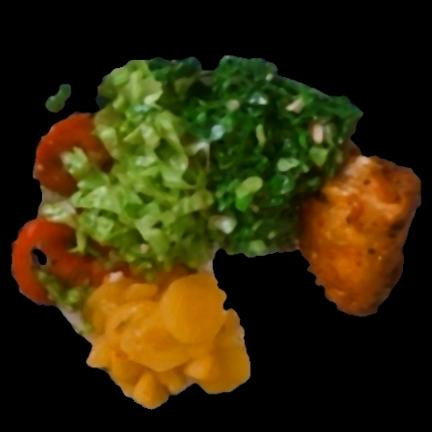cassava: (88, 274, 250, 407)
chicken: (301, 153, 421, 316)
salad: (44, 57, 362, 270)
tomato: (12, 218, 107, 304), (36, 114, 108, 196)
